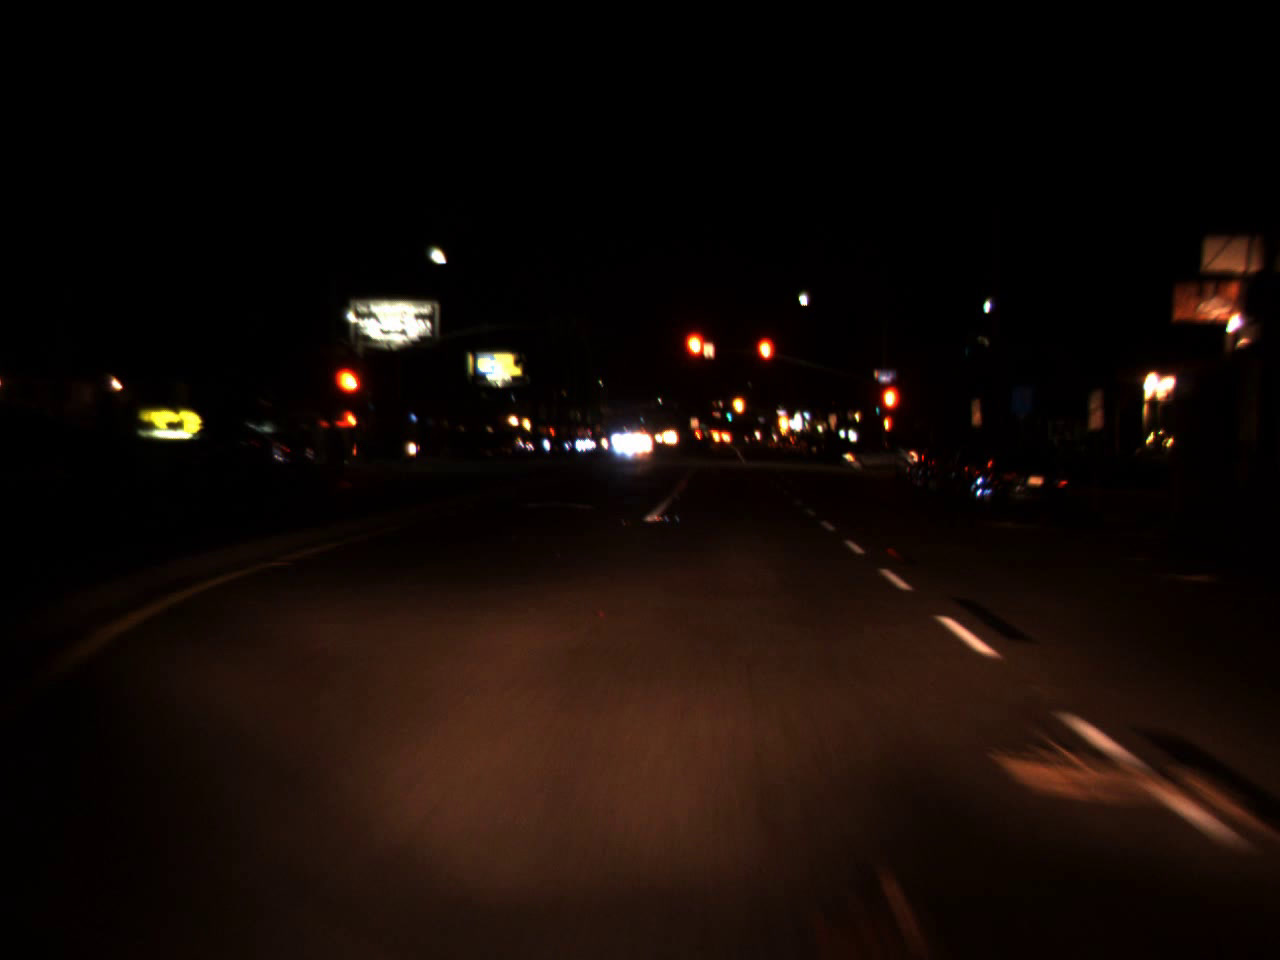go: (725, 405, 732, 423)
stop: (331, 363, 365, 425), (681, 328, 711, 384), (879, 384, 901, 435), (756, 336, 774, 381)
warning: (730, 386, 746, 423), (776, 406, 791, 436)
